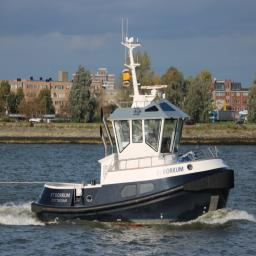tugboat: (29, 15, 238, 233)
